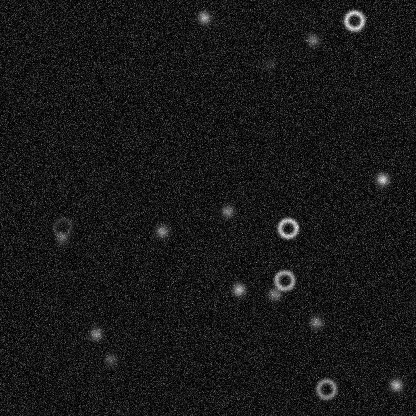Ring: (272, 268, 296, 292), (50, 215, 74, 239), (342, 8, 366, 32), (275, 216, 299, 240), (314, 376, 338, 400)
Spot: (53, 230, 69, 246), (304, 32, 320, 48), (308, 314, 324, 330), (230, 281, 246, 297), (261, 56, 277, 72), (196, 9, 212, 25), (87, 325, 103, 341), (374, 171, 390, 187), (388, 376, 404, 392), (266, 285, 282, 301), (153, 223, 169, 239), (102, 351, 118, 367), (219, 203, 235, 219)
